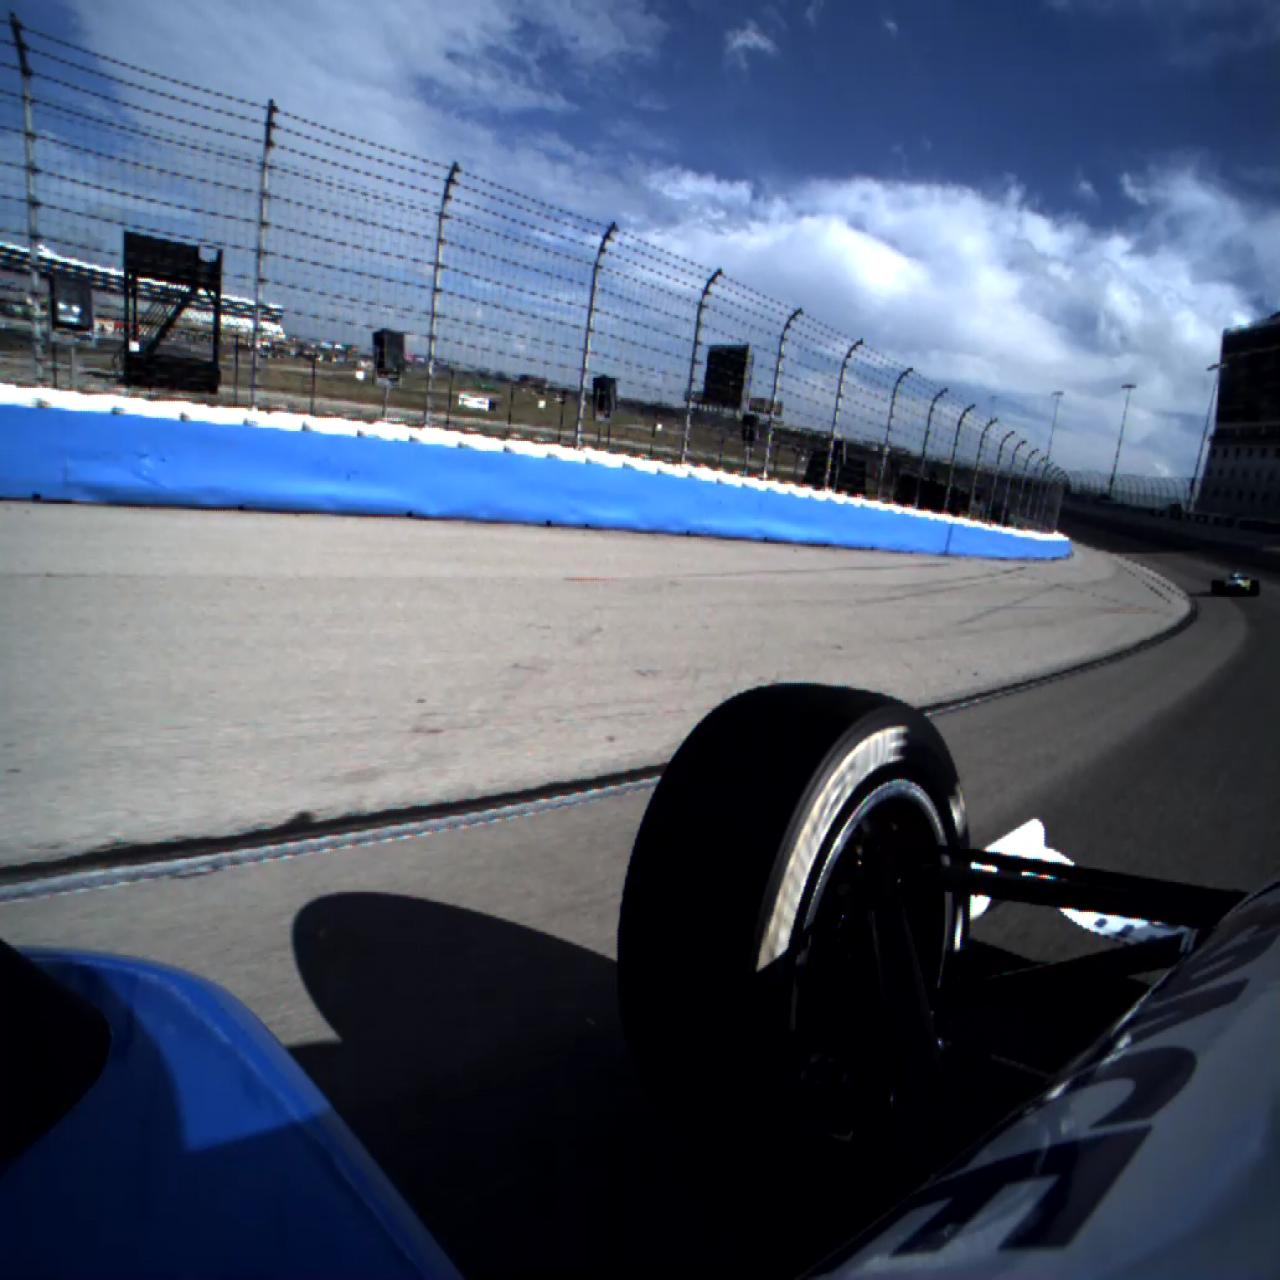AV: (1211, 568, 1260, 599)
Wheel: (617, 681, 972, 1149), (1211, 580, 1225, 598), (1251, 580, 1260, 597)
